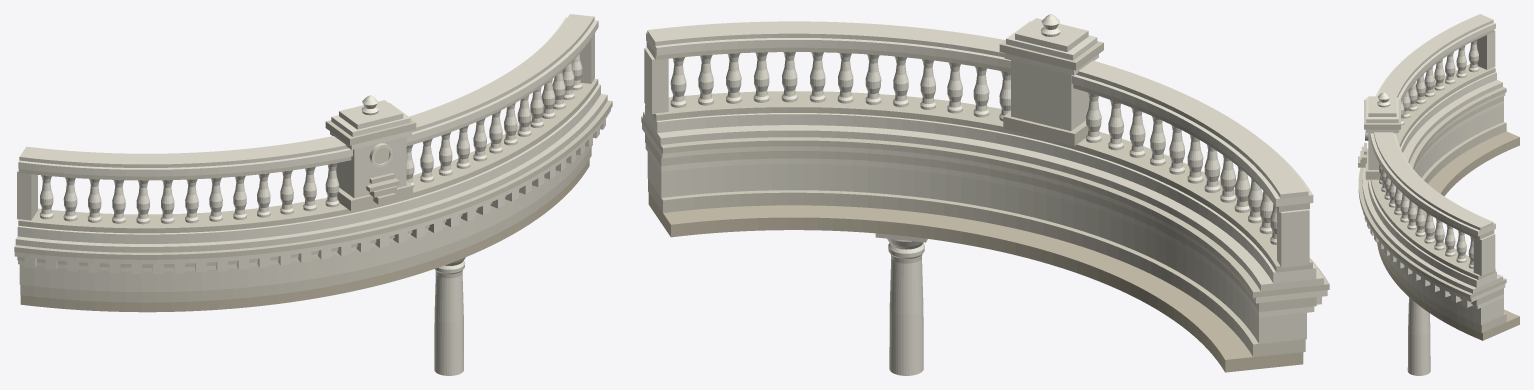
Rendered from jingan-kwok-brothers-residence-historic-front-raw.glb.
3 views of the same model, side by side, from view 1: azimuth 30°, elevation 25°; view 2: azimuth 150°, elevation 25°; view 3: azimuth 270°, elevation 25° (orthographic). The views are drawn at different scales.
Visible parts, largest first — view 1: 郭氏兄弟住宅弧形檐廊; view 2: 郭氏兄弟住宅弧形檐廊; view 3: 郭氏兄弟住宅弧形檐廊.
Boxes of the visible parts, left/top/right/bottom form: 郭氏兄弟住宅弧形檐廊: left=14, top=14, right=612, bottom=375; 郭氏兄弟住宅弧形檐廊: left=641, top=14, right=1329, bottom=375; 郭氏兄弟住宅弧形檐廊: left=1358, top=14, right=1519, bottom=375.
Bounding box in the file's own units: 8.01 × 4.03 × 2.46.
